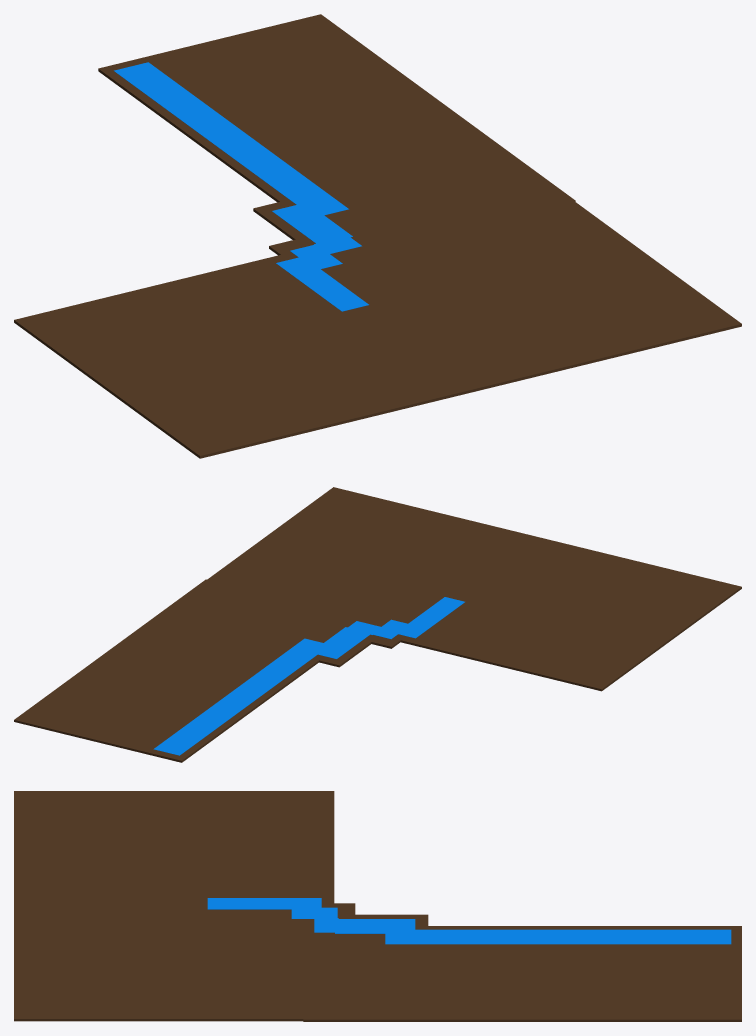
File: river2.fbx
The picture shows the model from 3 angles, top to bottom: view 1: azimuth 30°, elevation 25°; view 2: azimuth 150°, elevation 25°; view 3: azimuth 270°, elevation 25°; orthographic projection. The views are drawn at different scales.
Parts seen in each view (by area): view 1: Shore2, WaterCut2; view 2: Shore2, WaterCut2; view 3: Shore2, WaterCut2.
Part boxes in pixels (box(x1,y1,x2,y2)): Shore2: box(14, 14, 741, 458); WaterCut2: box(114, 62, 368, 311); Shore2: box(14, 487, 741, 762); WaterCut2: box(153, 597, 464, 755); Shore2: box(14, 791, 741, 1021); WaterCut2: box(207, 898, 731, 944).
Size of the model in its own units: 22954 by 115 by 30908.
